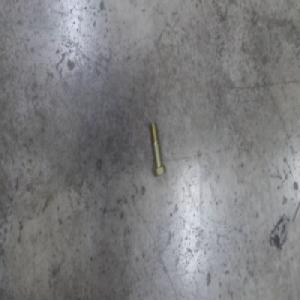Bolt: (149, 121, 167, 178)
